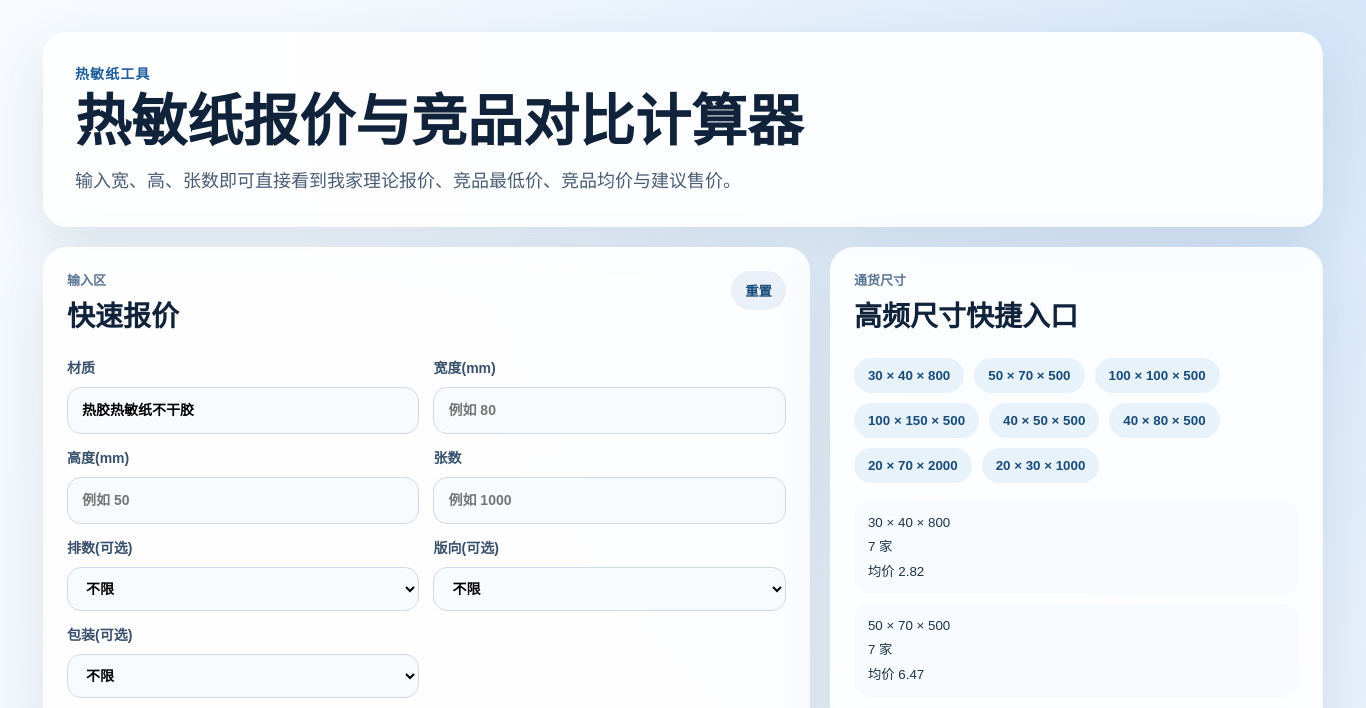
Test: app › autofills values when a featured size is clicked
Click the button "100 × 100 × 500".
click(1157, 376)  # box [1094, 358, 1220, 393]
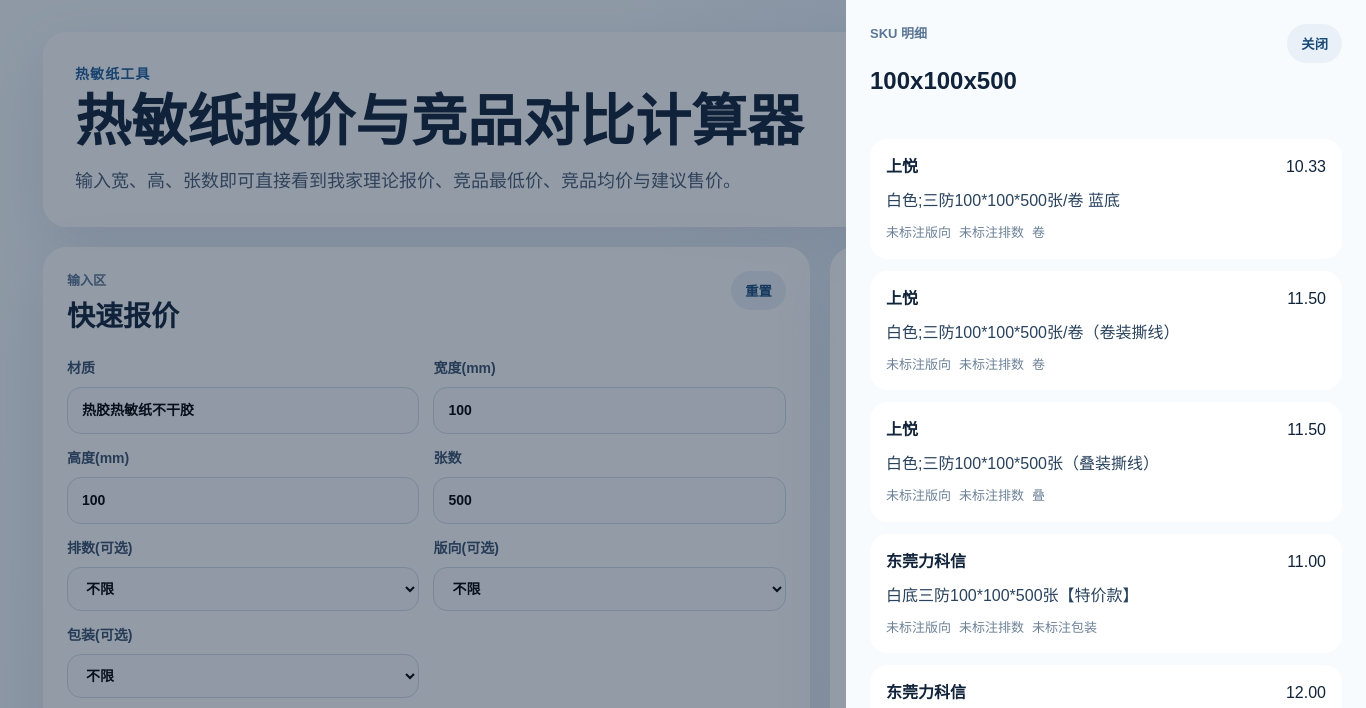
Expected: the field labelled "宽度(mm)" holds "100", [434, 387, 786, 434]
Expected: the field labelled "高度(mm)" holds "100", [67, 477, 420, 524]
Expected: the field labelled "张数" holds "500", [434, 477, 786, 524]
